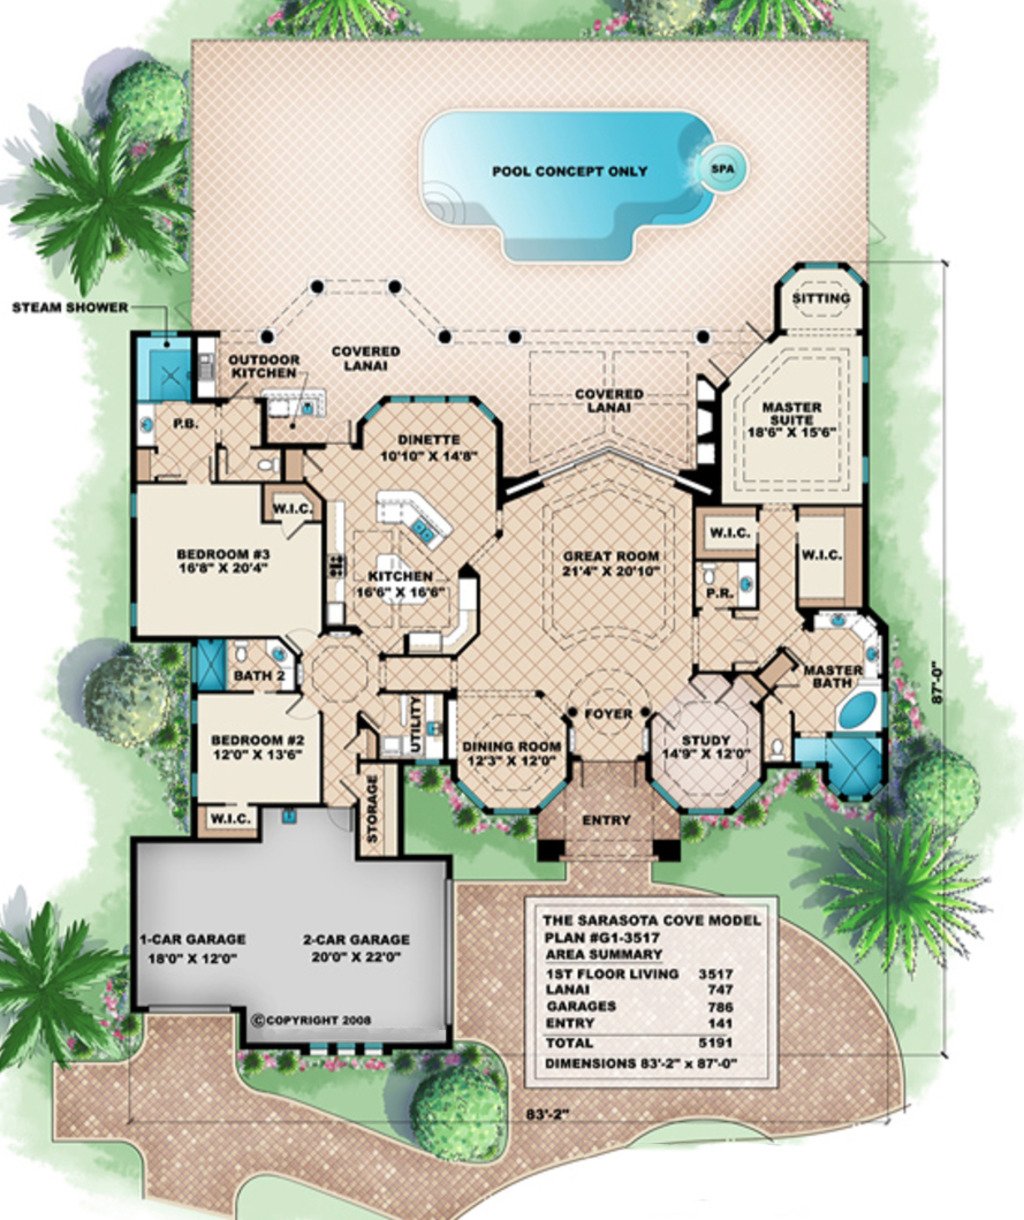door: (183, 455, 212, 485)
kitchen_bar: (368, 485, 453, 558)
small_sink: (733, 567, 763, 608)
tub: (832, 688, 879, 736)
windows: (377, 386, 475, 410), (483, 802, 536, 821), (673, 802, 729, 820)
